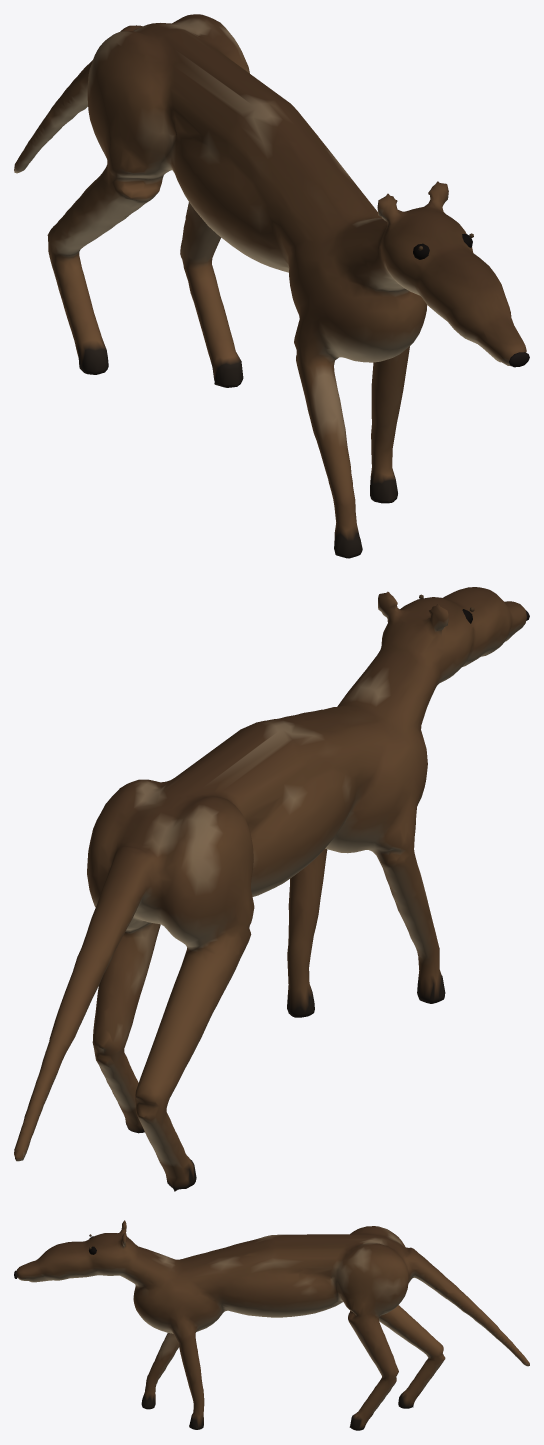
Rendered from IndohyusIndirae.fbx.
3 views of the same model, one above another, from view 1: azimuth 30°, elevation 25°; view 2: azimuth 150°, elevation 25°; view 3: azimuth 270°, elevation 25° (orthographic). The views are drawn at different scales.
Visible parts, largest first — view 1: IndohyusIndirae; view 2: IndohyusIndirae; view 3: IndohyusIndirae.
Boxes of the visible parts, x1,y1,x2,y2 form: IndohyusIndirae: [14, 14, 529, 558]; IndohyusIndirae: [14, 587, 529, 1191]; IndohyusIndirae: [14, 1220, 529, 1430].
Size of the model in its own units: 0.2391 by 0.6177 by 1.5.
